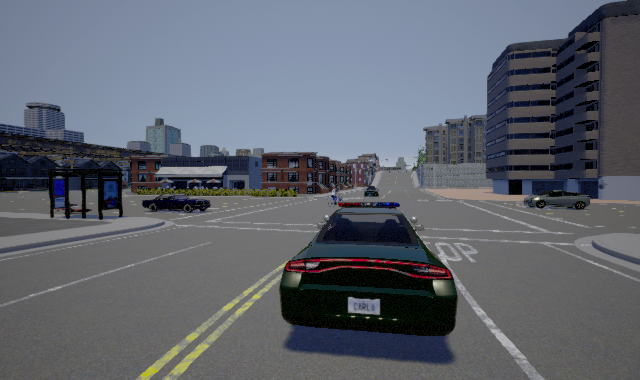bike: (326, 183, 345, 207)
vehicle: (279, 195, 458, 336), (523, 190, 590, 210), (142, 194, 211, 213), (361, 185, 381, 196)
